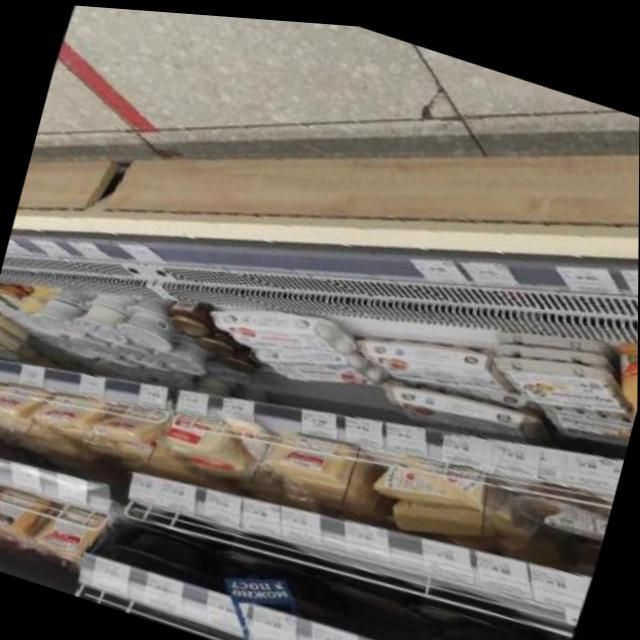Egg: (200, 272, 366, 375), (383, 362, 554, 457), (231, 311, 396, 409), (353, 311, 518, 409), (407, 567, 539, 640), (317, 550, 435, 623), (110, 515, 225, 587), (389, 481, 504, 553), (509, 461, 613, 535), (388, 440, 502, 507), (225, 521, 333, 586), (264, 418, 355, 488), (36, 494, 107, 570), (427, 605, 559, 640), (594, 318, 638, 422), (161, 405, 239, 463), (33, 381, 100, 440), (111, 301, 183, 355), (94, 394, 162, 449), (0, 477, 48, 551), (153, 328, 219, 380), (28, 291, 93, 342), (70, 298, 134, 347), (164, 289, 223, 340), (214, 331, 272, 379), (191, 317, 245, 361), (104, 334, 167, 370), (0, 373, 41, 428), (84, 280, 137, 320), (0, 324, 28, 364)
